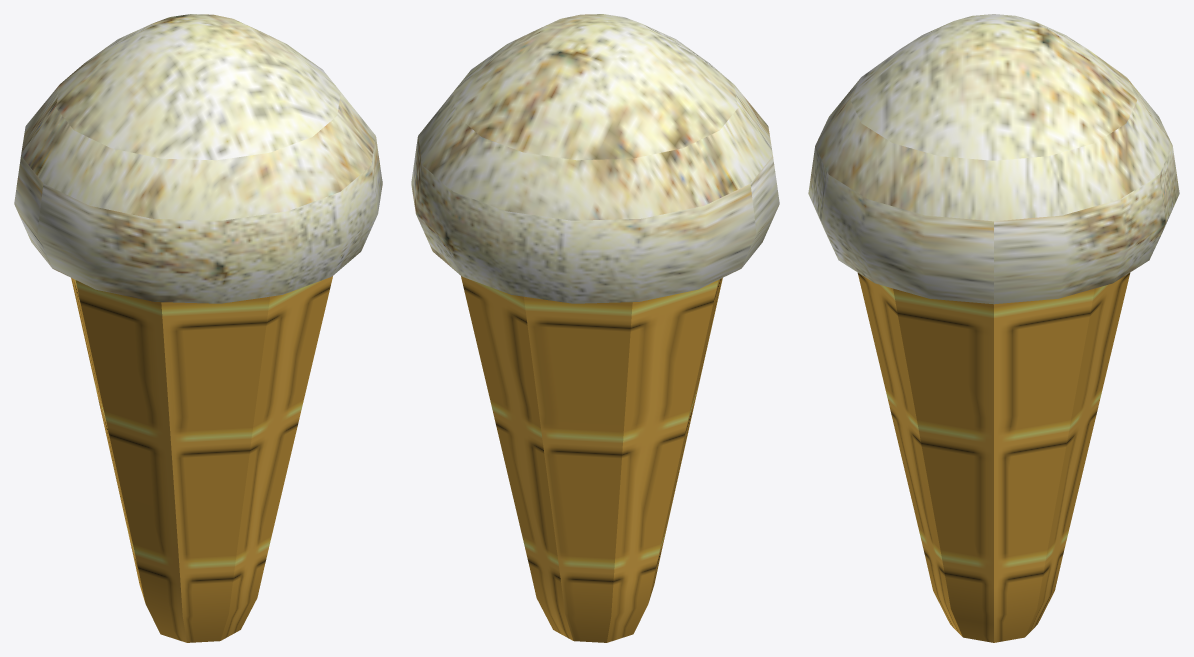
File: IceCreamA.FBX
The picture shows the model from 3 angles, left to right: view 1: azimuth 30°, elevation 25°; view 2: azimuth 150°, elevation 25°; view 3: azimuth 270°, elevation 25°; orthographic projection.
Visible parts, largest first — view 1: IceCreamA, IceCreamCorn_A; view 2: IceCreamA, IceCreamCorn_A; view 3: IceCreamA, IceCreamCorn_A.
Part boxes in pixels (x1,y1,x2,y2): IceCreamA: [14, 14, 382, 303]; IceCreamCorn_A: [71, 276, 332, 642]; IceCreamA: [411, 14, 779, 303]; IceCreamCorn_A: [461, 276, 722, 642]; IceCreamA: [808, 14, 1179, 304]; IceCreamCorn_A: [857, 273, 1130, 642].
Bounding box in the file's own units: 106 × 192 × 106.
